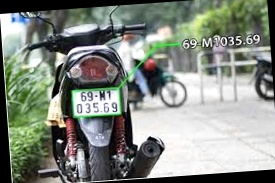Bien-so: (75, 86, 121, 115)
